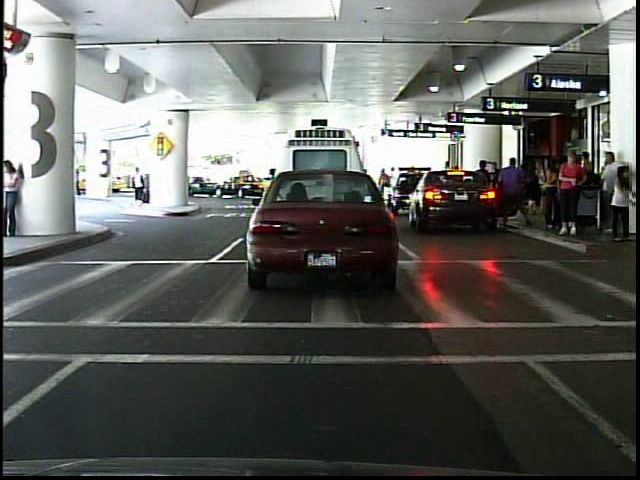person: (555, 147, 589, 242), (5, 156, 29, 240), (126, 161, 155, 209)
